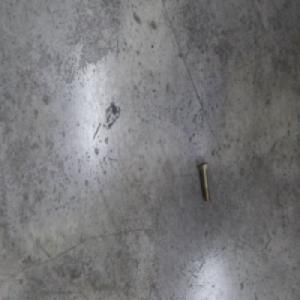Bolt: (198, 160, 211, 202)
